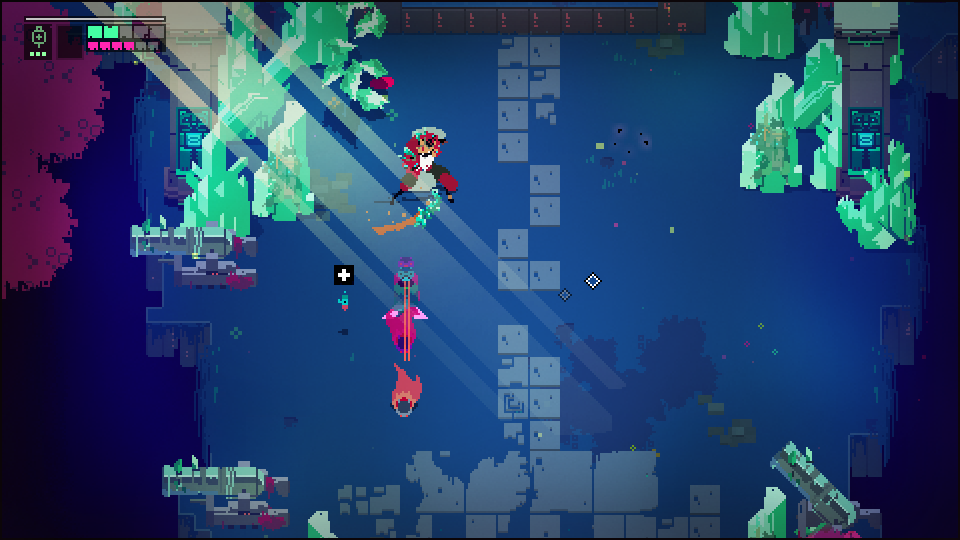hanged_man: (377, 122, 464, 233)
player: (388, 361, 424, 420)
